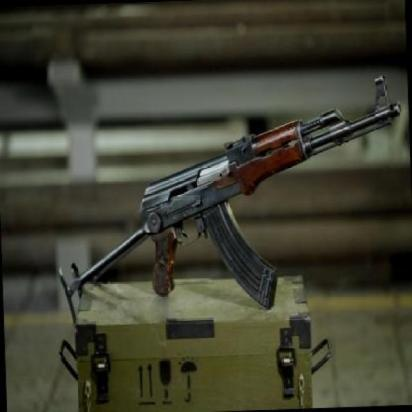Gun: (52, 84, 406, 315)
